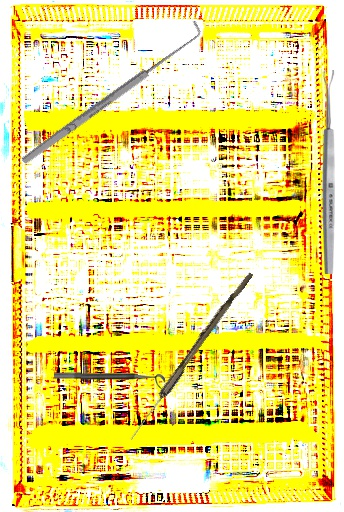Fixation Ring: (53, 372, 166, 390)
Hook Surgical: (13, 18, 209, 169)
Surgical Spoon: (127, 269, 254, 443), (322, 70, 336, 274)
